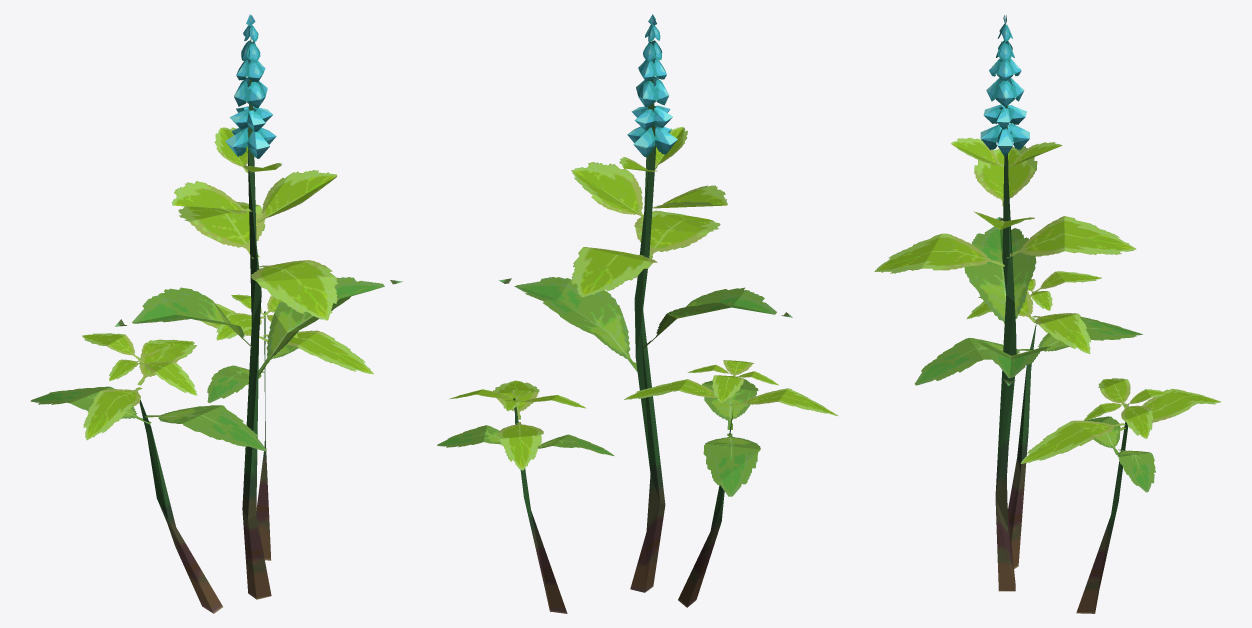
File: gi-Mint01.glb
3 views of the same model, side by side, from view 1: azimuth 30°, elevation 25°; view 2: azimuth 150°, elevation 25°; view 3: azimuth 270°, elevation 25° (orthographic). The views are drawn at different scales.
Visible parts, largest first — view 1: gi-Mint01; view 2: gi-Mint01; view 3: gi-Mint01.
Part boxes in pixels (box(x1,y1,x2,y2)): gi-Mint01: box(30, 14, 402, 613); gi-Mint01: box(437, 14, 838, 613); gi-Mint01: box(874, 15, 1220, 613).
Size of the model in its own units: 0.4624 by 0.752 by 0.4363.
1 material, 1 textured.
